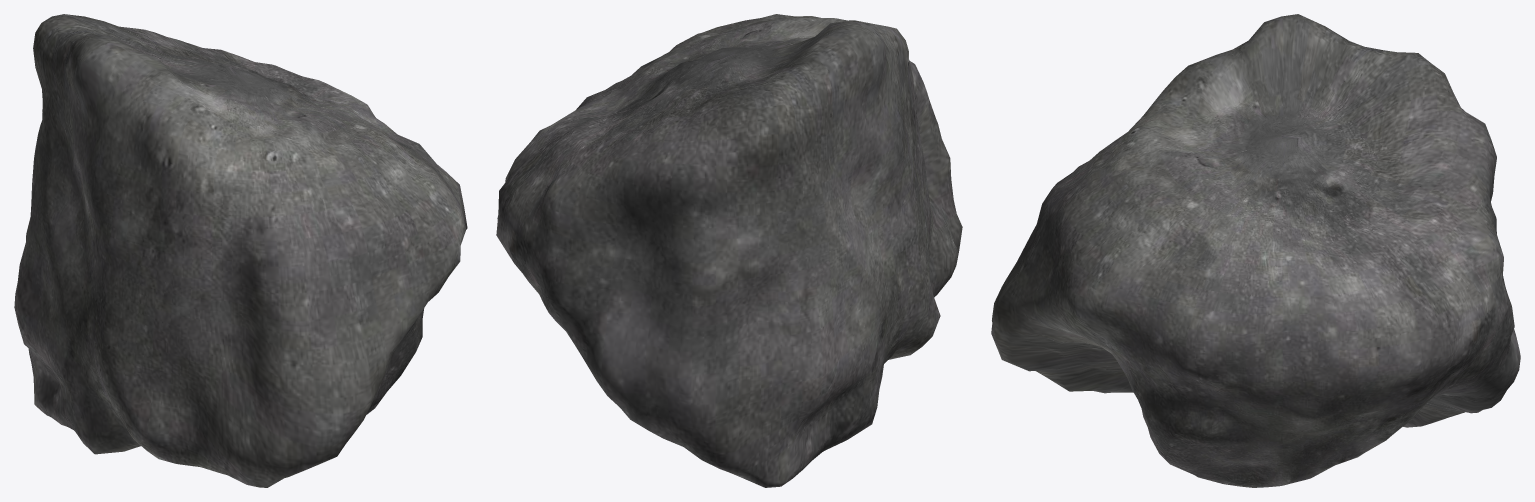
Rendered from golevka.glb.
3 renders of one model, left to right at view 1: azimuth 30°, elevation 25°; view 2: azimuth 150°, elevation 25°; view 3: azimuth 270°, elevation 25°, orthographic. The views are drawn at different scales.
Parts seen in each view (by area): view 1: golevka; view 2: golevka; view 3: golevka.
Part boxes in pixels (x1=…): golevka: x1=14, y1=14, x2=467, y2=487; golevka: x1=496, y1=14, x2=962, y2=487; golevka: x1=991, y1=14, x2=1520, y2=487.
Bounding box in the file's own units: 0.4888 × 0.572 × 0.6852.
Materials: 1 (1 with a texture image).
